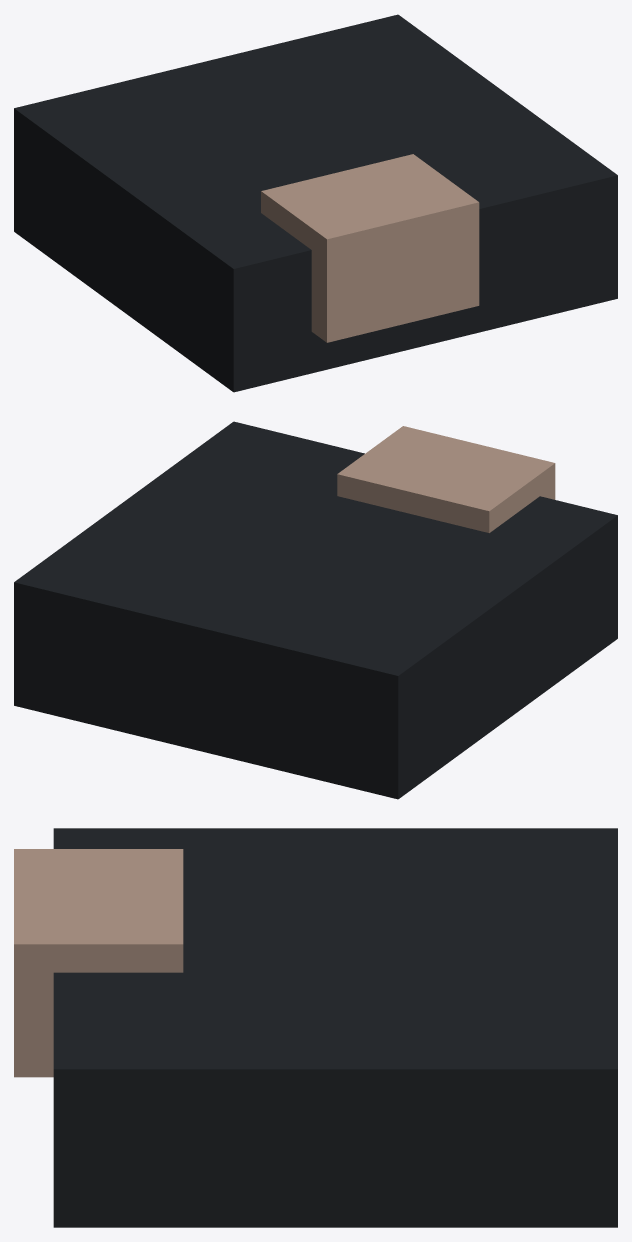
Rendered from inf_v2_brute_foot.fbx.
3 views of the same model, one above another, from view 1: azimuth 30°, elevation 25°; view 2: azimuth 150°, elevation 25°; view 3: azimuth 270°, elevation 25° (orthographic). The views are drawn at different scales.
Parts seen in each view (by area): view 1: inf_v2_brute_foot; view 2: inf_v2_brute_foot; view 3: inf_v2_brute_foot.
Part boxes in pixels (x1,y1,x2,y2): inf_v2_brute_foot: (14, 14, 617, 392); inf_v2_brute_foot: (14, 421, 617, 799); inf_v2_brute_foot: (14, 828, 617, 1227).
Size of the model in its own units: 101 by 36.5 by 107.
